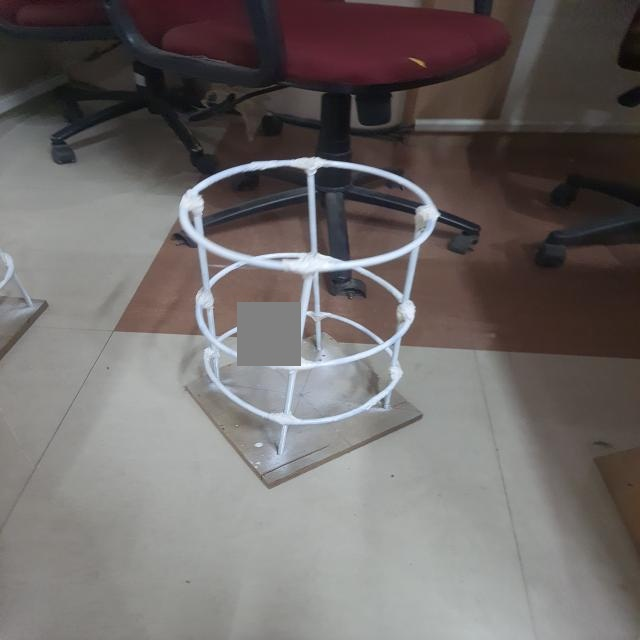silo: (176, 150, 428, 487)
